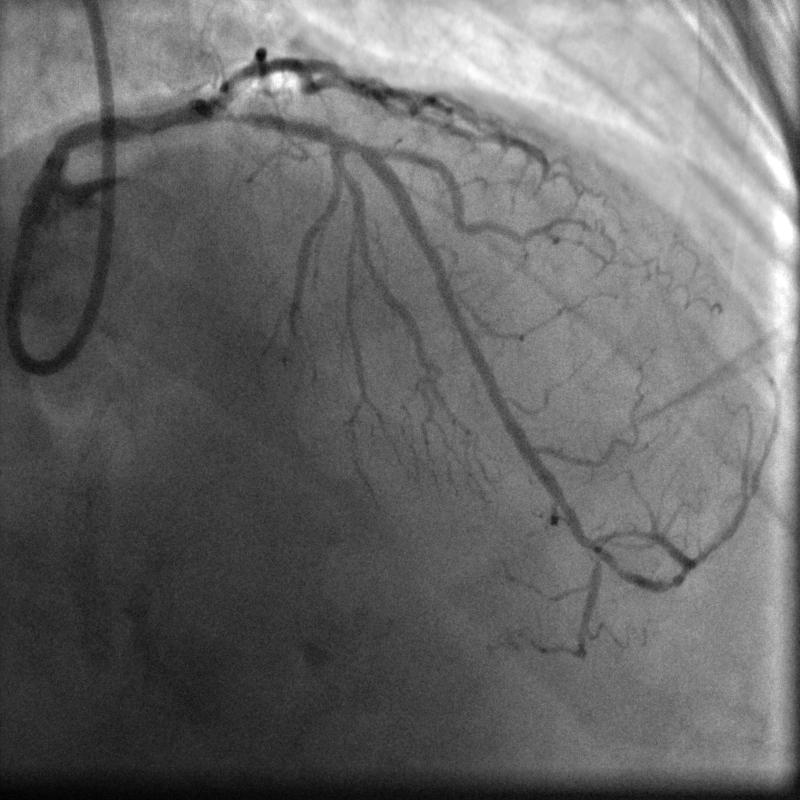Stenosis: (216, 105, 274, 130)
